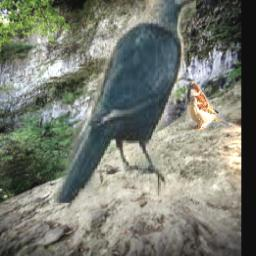Crow: (55, 0, 197, 203)
Sparrow: (185, 82, 229, 131)
